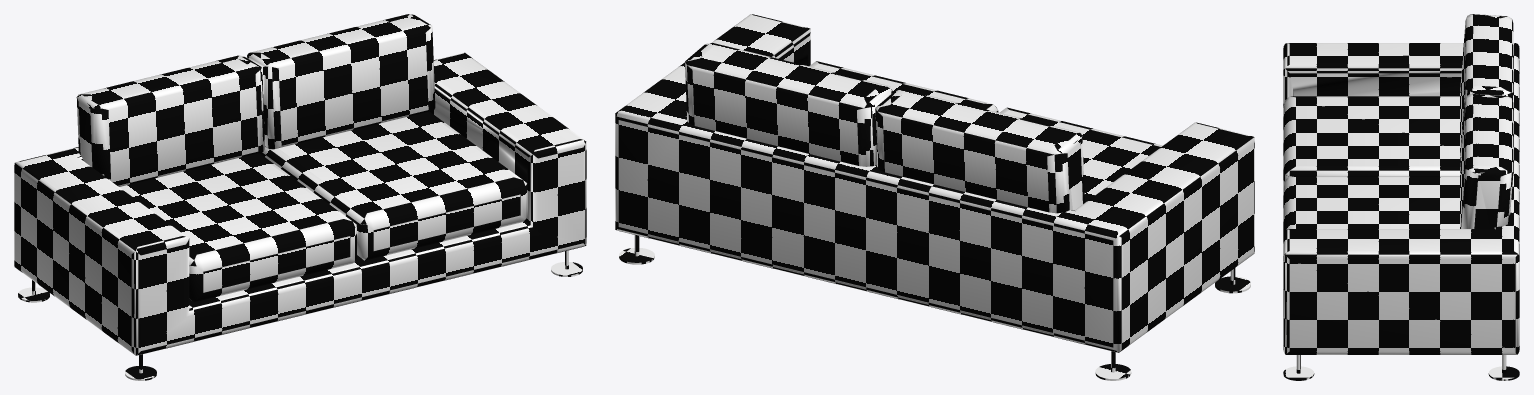
Rendered from Sofa.fbx.
The picture shows the model from 3 angles, left to right: view 1: azimuth 30°, elevation 25°; view 2: azimuth 150°, elevation 25°; view 3: azimuth 270°, elevation 25°; orthographic projection. The views are drawn at different scales.
Visible parts, largest first — view 1: Model; view 2: Model; view 3: Model.
Part boxes in pixels (<box>): Model: <box>14,14,586,380</box>; Model: <box>615,14,1254,380</box>; Model: <box>1283,14,1519,380</box>.
Bounding box in the file's own units: 2.03 × 0.8172 × 0.9548.
